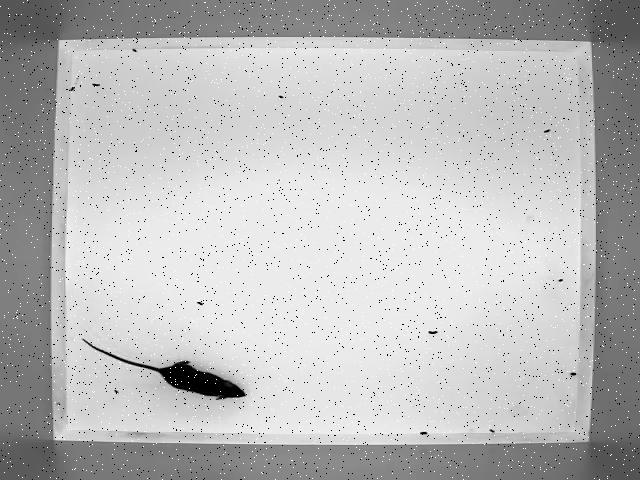Tikus: (74, 334, 255, 404)
